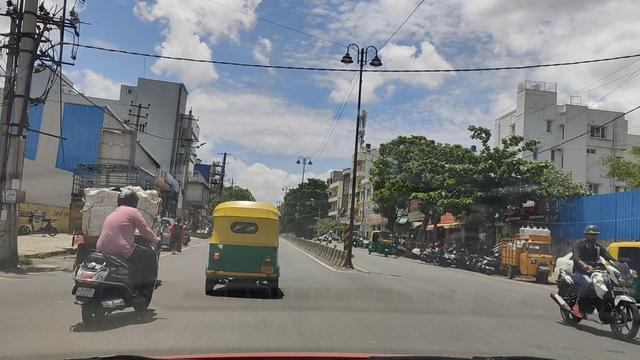LMV: (75, 190, 160, 323), (82, 184, 162, 269), (213, 204, 282, 299)
